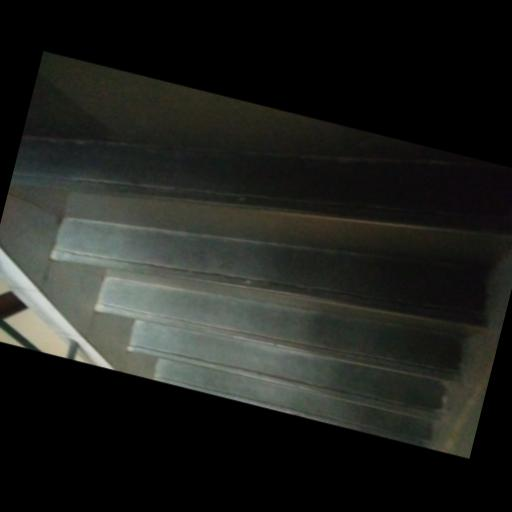stairs: (9, 139, 511, 444)
